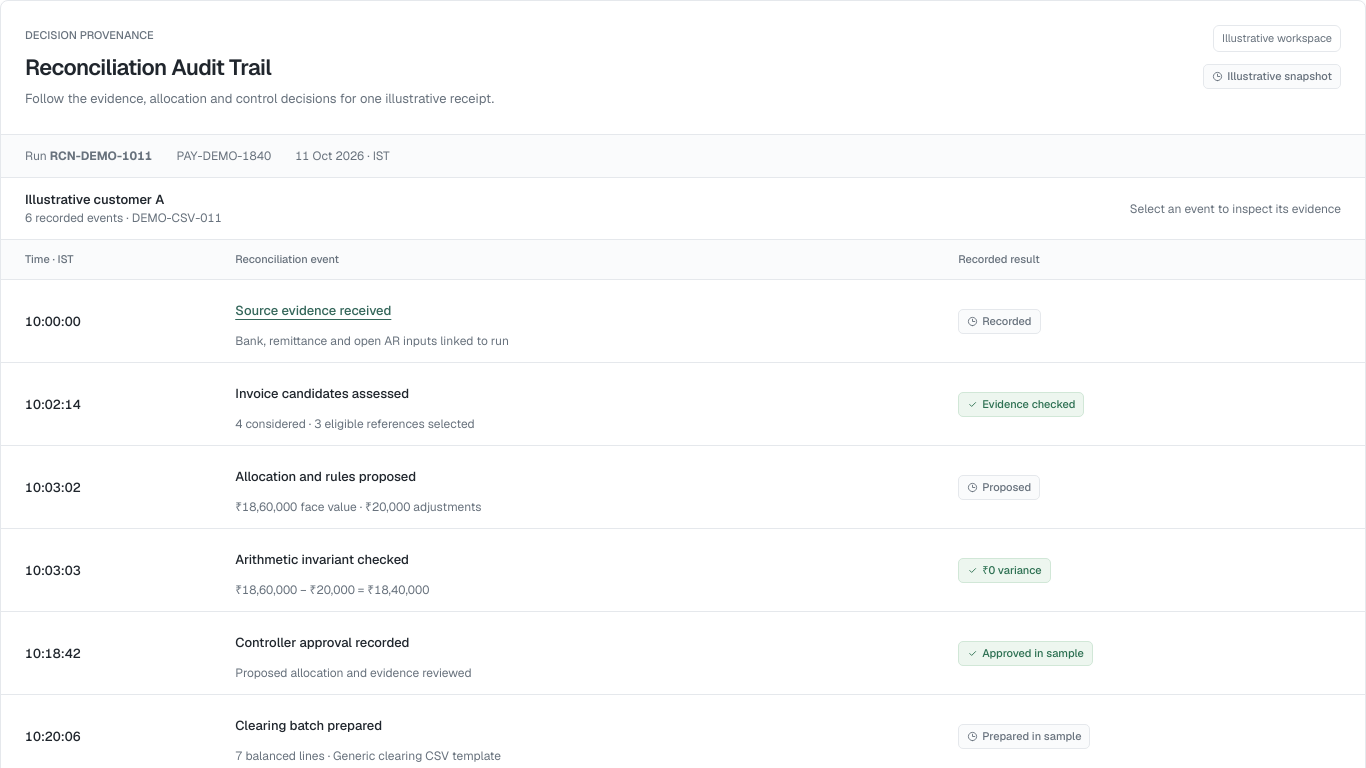
Test case: reconciliation audit provenance › selects candidate evidence and explains exclusions independently of arithmetic
The image size is (1366, 768).
Click the button with aria-label "Inspect Invoice candidates assessed".
click(322, 393)  # box [235,375,409,411]
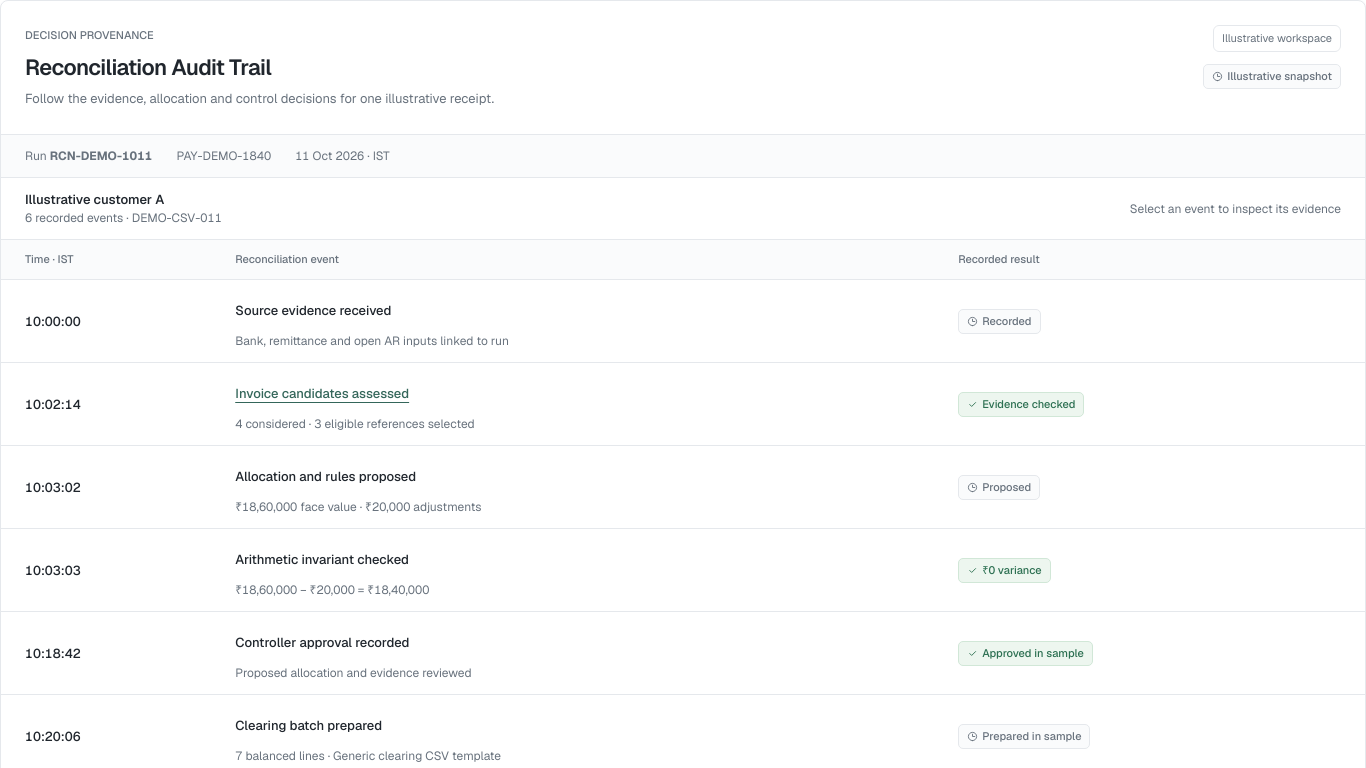
Check: the button with aria-label "Inspect Invoice candidates assessed" is pressed, box [235,375,409,411]
Click the button with aria-label "Inspect Clearing batch prepared".
click(309, 725)  # box [235,707,382,743]
(page scrolled)
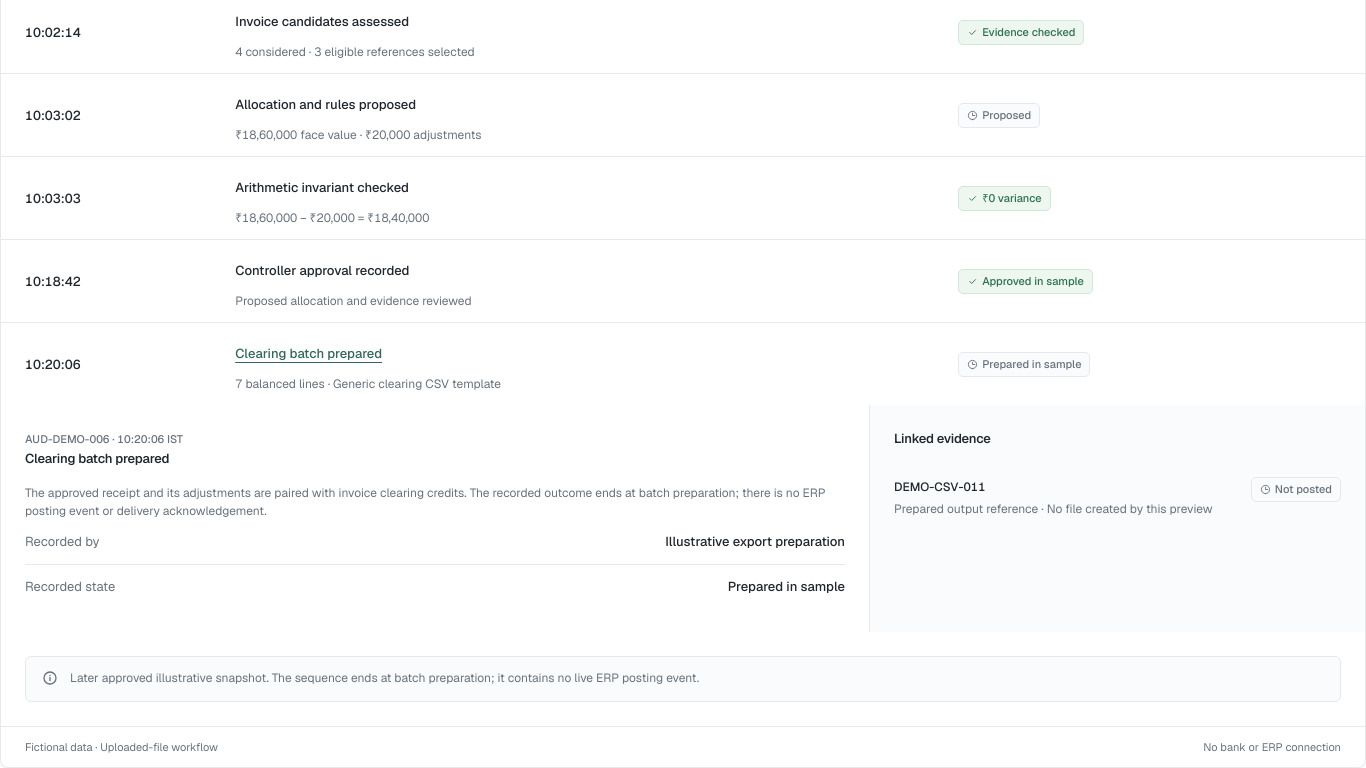
Check: the element named "Selected audit evidence" shows "no ERP posting event", box [25,485,826,519]
Check: the text "DEMO-CSV-011" is shown, box [894,479,986,495]
